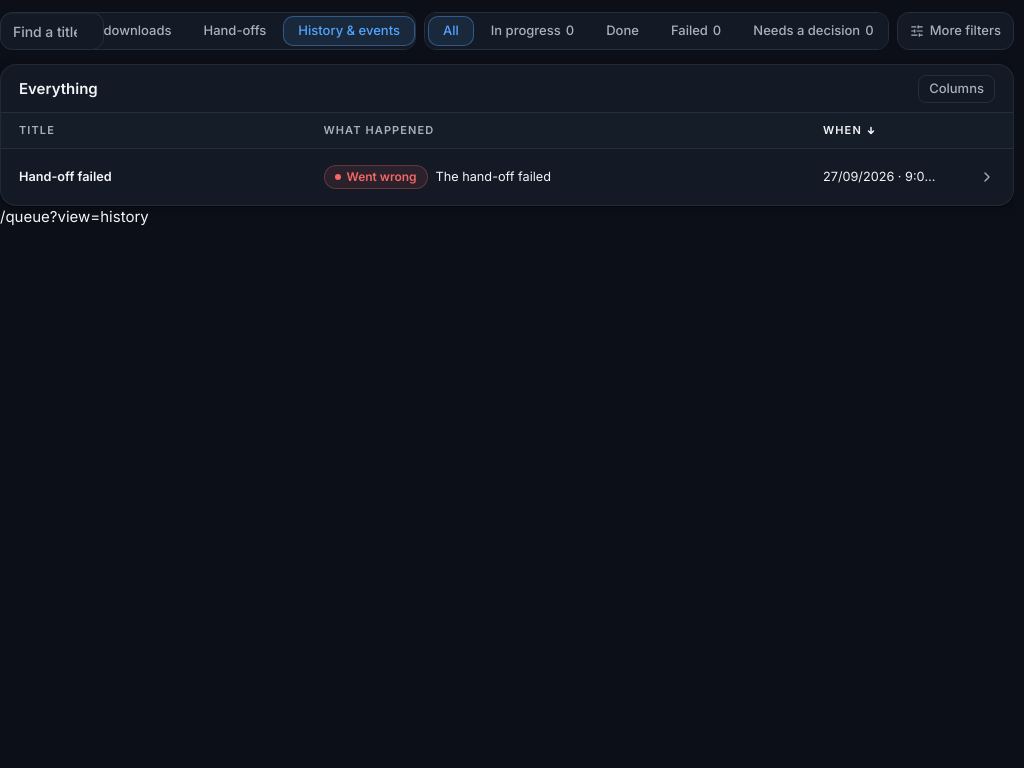
Scenario: Activity's drawers and their failures (#1329) › an event drawer for a problem has a 'Fix it' link that goes to its screen and closes the drawer
Click the text "The hand-off failed". click: x=493, y=177
box: [436,169,551,185]
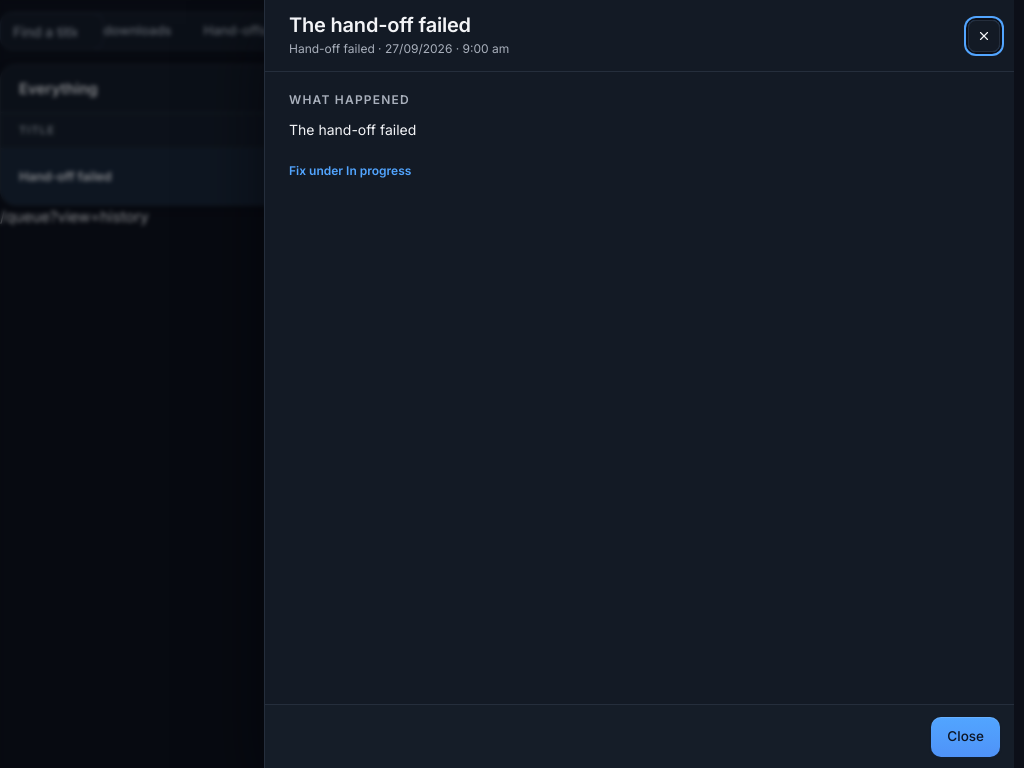
Click the link "Fix under In progress". click: x=350, y=170
box: [289,163,411,178]
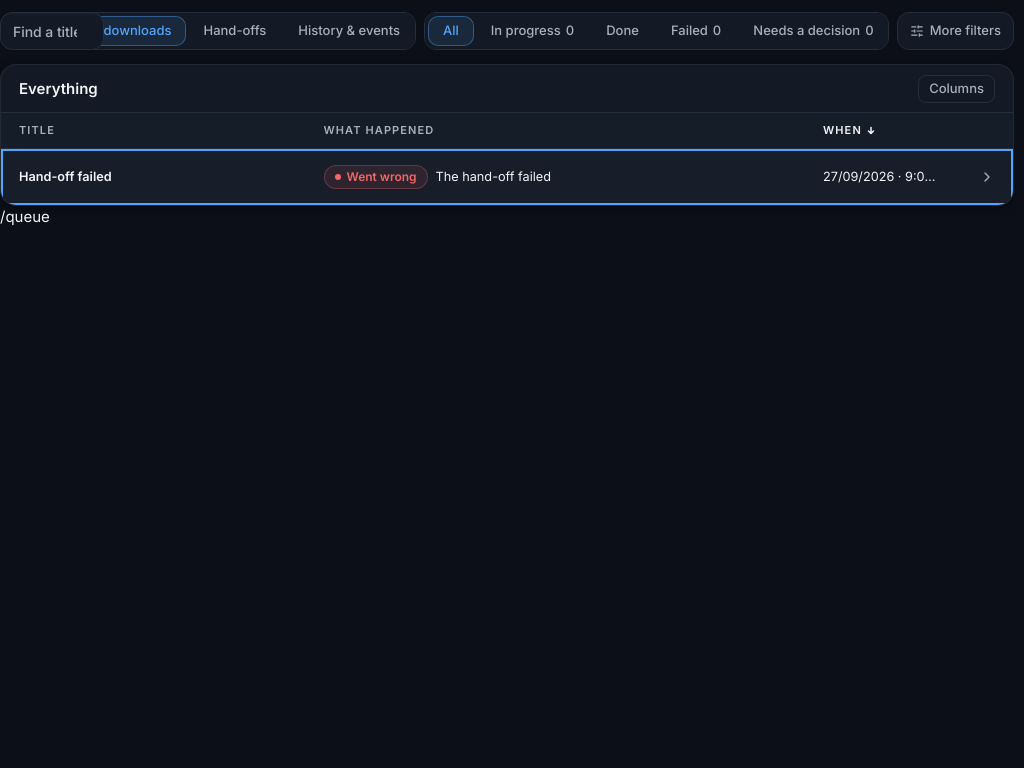
Now the text named "address" reads "/queue", box [0,207,50,226]
Now the dialog is gone
